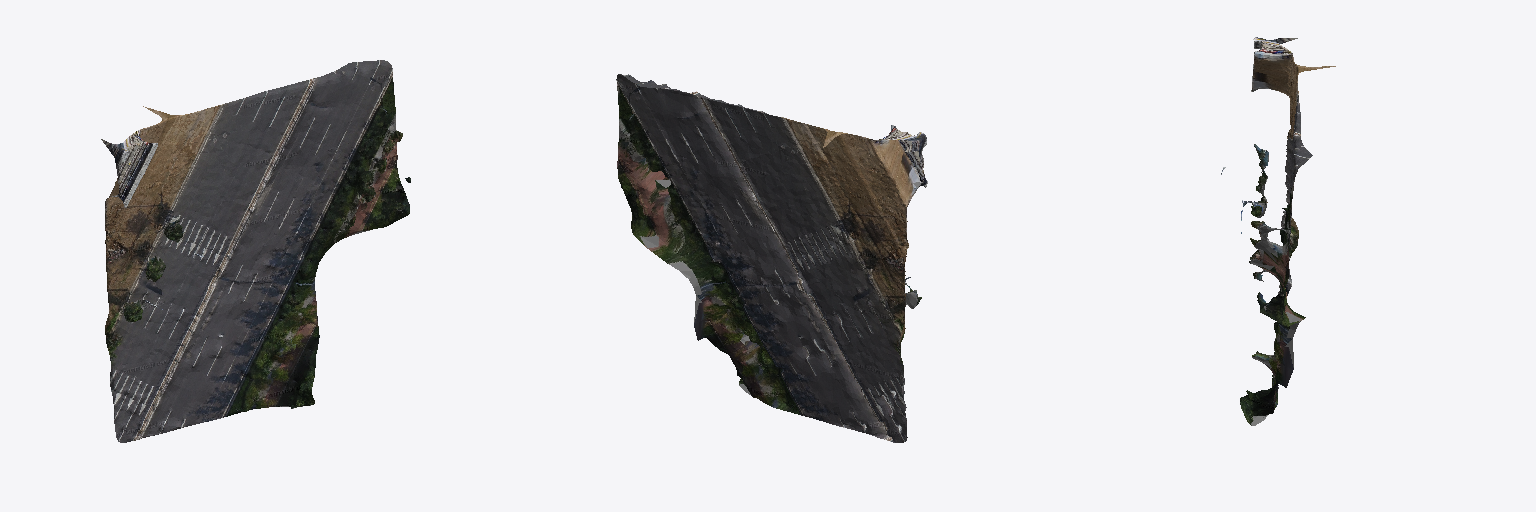
The picture shows the model from 3 angles: view 1: azimuth 30°, elevation 25°; view 2: azimuth 150°, elevation 25°; view 3: azimuth 270°, elevation 25°; orthographic projection.
Size of the model in its own units: 60.77 by 61.53 by 21.25.
2 materials, 1 textured.